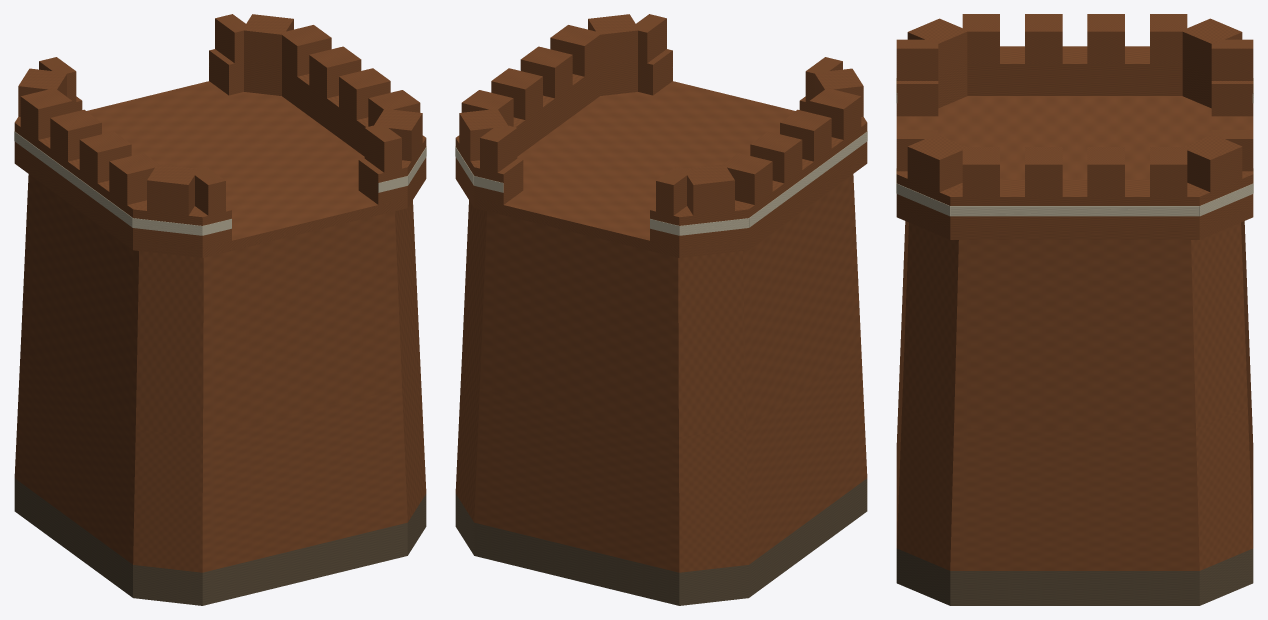
The model's file is Berber_Bastion_Age2_thru.fbx.
The picture shows the model from 3 angles, left to right: view 1: azimuth 30°, elevation 25°; view 2: azimuth 150°, elevation 25°; view 3: azimuth 270°, elevation 25°; orthographic projection. The views are drawn at different scales.
Visible parts, largest first — view 1: thru_battered_upper, thru_battered_lower, thru_continuous_walk_floor, thru_stone_foot, thru_guard_6_0, thru_guard_2_0, thru_merlon_7_0_0, thru_merlon_3_0_0, thru_merlon_6_0_3, thru_merlon_6_0_2, thru_merlon_6_0_0, thru_merlon_2_0_2 (+17 smaller); view 2: thru_battered_upper, thru_battered_lower, thru_continuous_walk_floor, thru_stone_foot, thru_guard_6_0, thru_guard_2_0, thru_merlon_5_0_0, thru_merlon_1_0_0, thru_merlon_6_0_1, thru_merlon_6_0_3, thru_merlon_6_0_0, thru_merlon_2_0_1 (+17 smaller); view 3: thru_battered_upper, thru_battered_lower, thru_continuous_walk_floor, thru_stone_foot, thru_guard_6_0, thru_guard_2_0, thru_owner_band_2_0, thru_merlon_1_0_0, thru_merlon_3_0_0, thru_merlon_2_0_1, thru_merlon_2_0_2, thru_merlon_2_0_3 (+19 smaller).
Boxes of the visible parts, box(x1,y1,x2,y2) form: thru_battered_upper: box(21, 174, 420, 436); thru_battered_lower: box(14, 345, 426, 572); thru_continuous_walk_floor: box(14, 81, 426, 257); thru_stone_foot: box(14, 478, 426, 605); thru_guard_6_0: box(14, 121, 146, 239); thru_guard_2_0: box(282, 66, 425, 156); thru_merlon_7_0_0: box(147, 164, 195, 215); thru_merlon_3_0_0: box(242, 14, 293, 65); thru_merlon_6_0_3: box(109, 153, 160, 204); thru_merlon_6_0_2: box(79, 131, 131, 183); thru_merlon_6_0_0: box(20, 89, 72, 139); thru_merlon_2_0_2: box(309, 46, 361, 98); thru_battered_upper: box(461, 174, 860, 436); thru_battered_lower: box(455, 345, 867, 572); thru_continuous_walk_floor: box(455, 81, 867, 257); thru_stone_foot: box(455, 478, 867, 605); thru_guard_6_0: box(735, 121, 867, 239); thru_guard_2_0: box(456, 66, 599, 156); thru_merlon_5_0_0: box(686, 164, 734, 215); thru_merlon_1_0_0: box(588, 14, 639, 65); thru_merlon_6_0_1: box(750, 131, 802, 183); thru_merlon_6_0_3: box(809, 88, 861, 139); thru_merlon_6_0_0: box(721, 153, 772, 204); thru_merlon_2_0_1: box(520, 46, 572, 98); thru_battered_upper: box(902, 221, 1247, 428); thru_battered_lower: box(896, 313, 1253, 570); thru_continuous_walk_floor: box(896, 96, 1253, 239); thru_stone_foot: box(896, 548, 1253, 605); thru_guard_6_0: box(967, 46, 1182, 95); thru_guard_2_0: box(950, 179, 1199, 229); thru_owner_band_2_0: box(950, 206, 1199, 216); thru_merlon_1_0_0: box(907, 134, 968, 192); thru_merlon_3_0_0: box(1183, 134, 1242, 192); thru_merlon_2_0_1: box(1025, 147, 1062, 196); thru_merlon_2_0_2: box(1087, 147, 1124, 196); thru_merlon_2_0_3: box(1150, 147, 1187, 196).
Bounding box in the file's own units: 601 × 820 × 601.
Materials: 3 (3 with a texture image).
